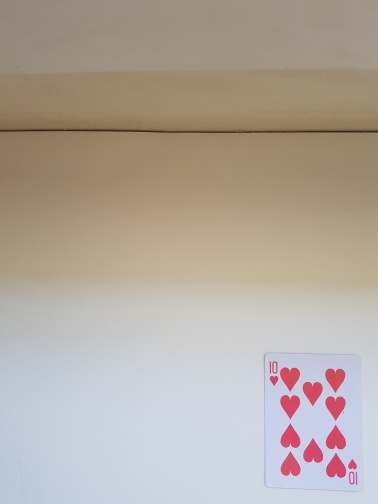ten: (263, 351, 365, 493)
